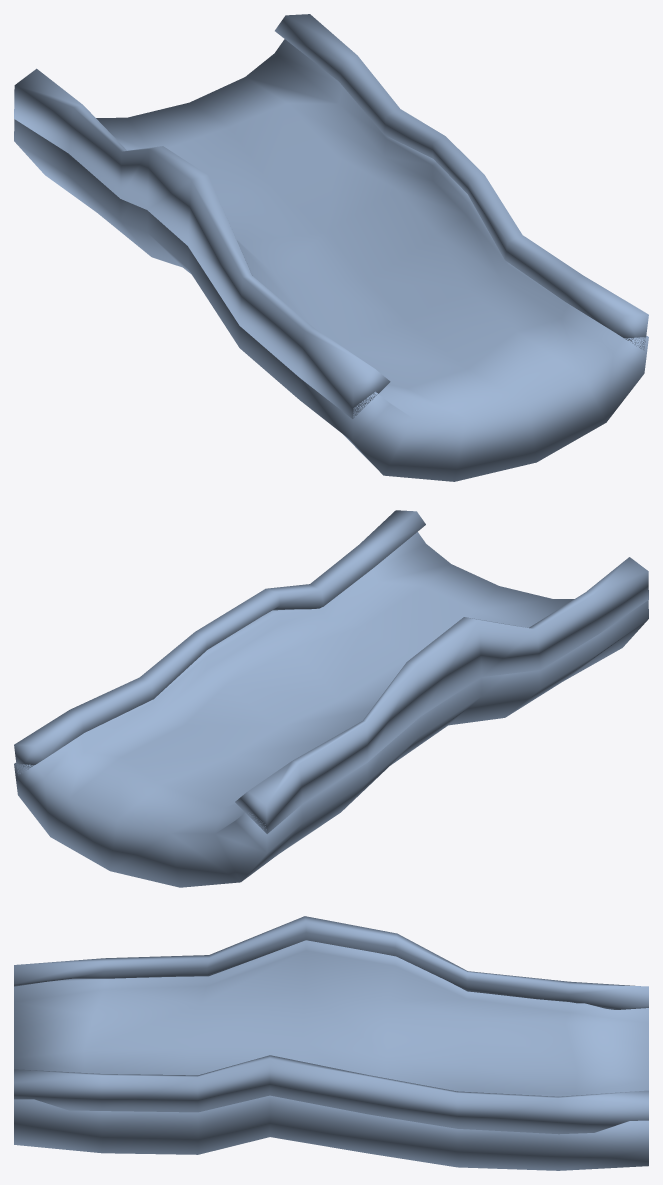
File: junRoadShort10.fbx
3 views of the same model, one above another, from view 1: azimuth 30°, elevation 25°; view 2: azimuth 150°, elevation 25°; view 3: azimuth 270°, elevation 25° (orthographic). The views are drawn at different scales.
Parts seen in each view (by area): view 1: roadShort10_LOD0, roadShort10_edge_LOD0; view 2: roadShort10_LOD0, roadShort10_edge_LOD0; view 3: roadShort10_LOD0, roadShort10_edge_LOD0.
Part boxes in pixels (box(x1,y1,x2,y2)): roadShort10_LOD0: box(14, 39, 648, 481); roadShort10_edge_LOD0: box(14, 14, 648, 418); roadShort10_LOD0: box(14, 532, 648, 887); roadShort10_edge_LOD0: box(14, 510, 648, 833); roadShort10_LOD0: box(14, 940, 648, 1170); roadShort10_edge_LOD0: box(14, 916, 648, 1134).
Bounding box in the file's own units: 1147 × 618 × 2230.
